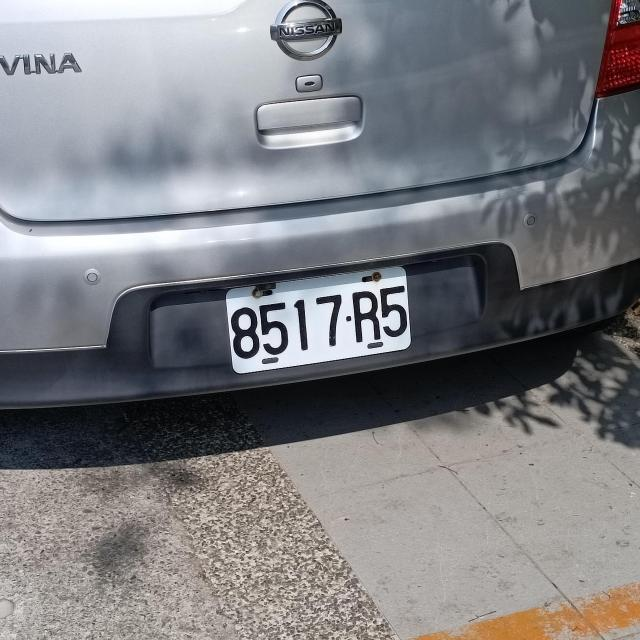W: (224, 268, 414, 374)
